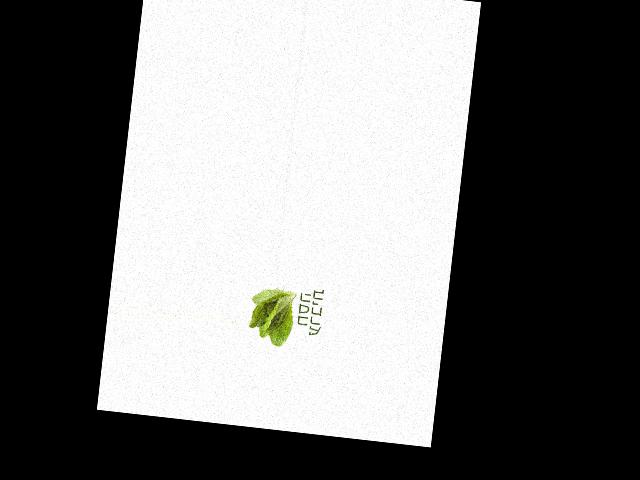lettuce: (247, 282, 302, 349)
